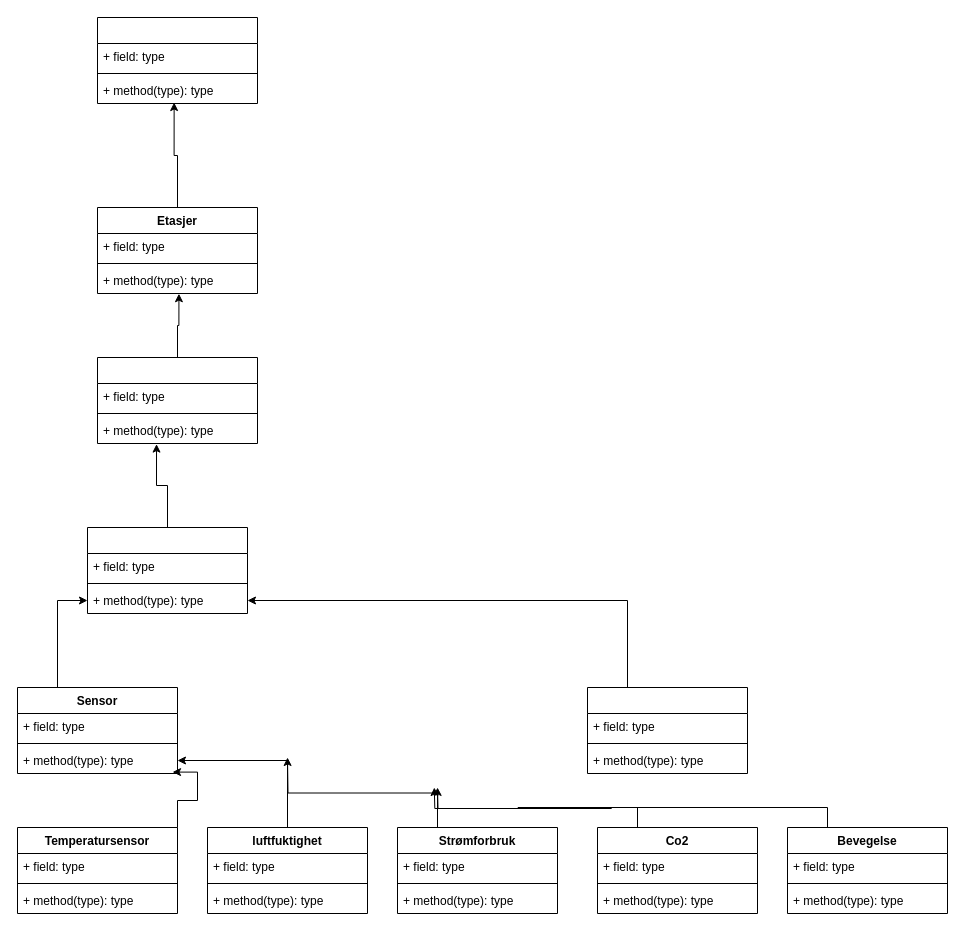
This 965x934 diagram has some shape labels left out. Here are the shapes that lost their labels. From the top down, the box of each, then its label:
(96, 16, 258, 104): Byggning
(96, 356, 258, 444): Rom
(86, 526, 248, 614): Enheter
(586, 686, 748, 774): Aktuator
